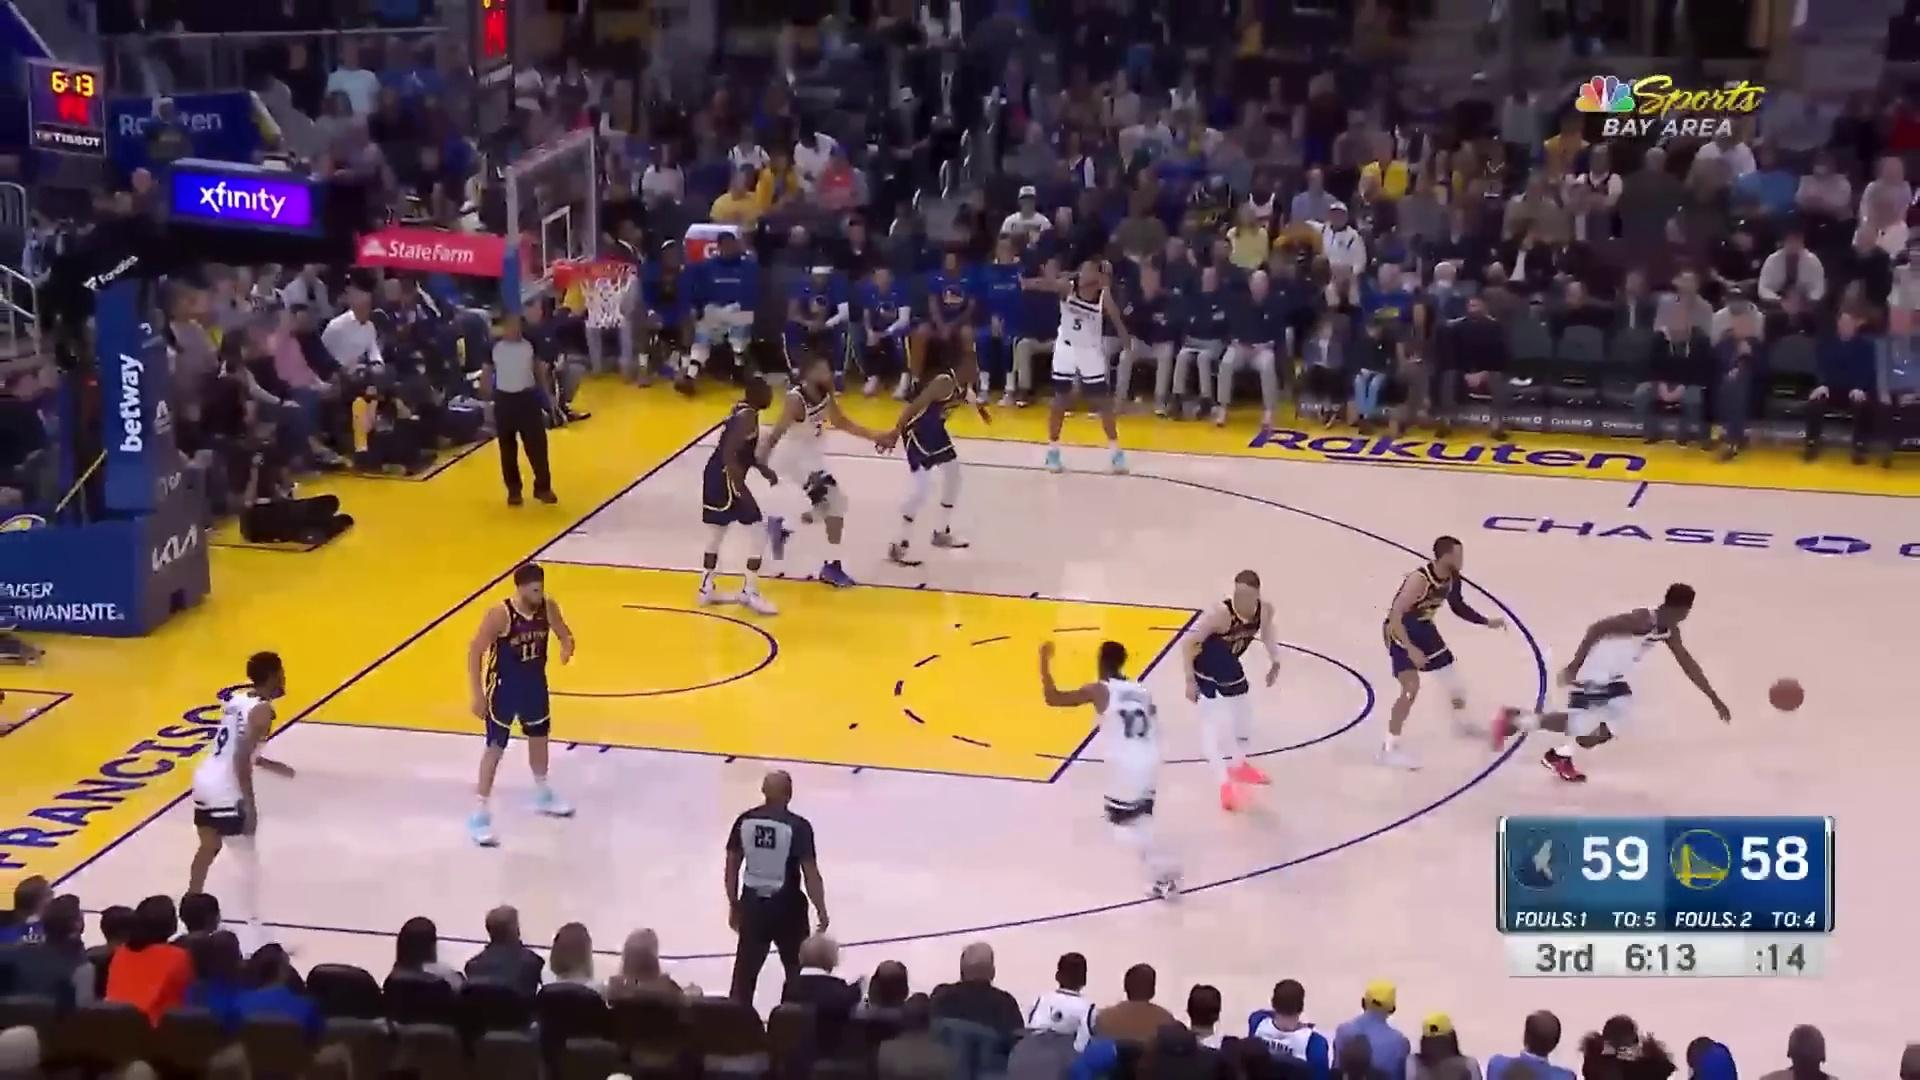Ball: (1768, 671, 1811, 718)
Player: (1488, 584, 1739, 783), (1018, 629, 1196, 908), (184, 643, 309, 971), (453, 566, 584, 864), (1366, 531, 1503, 774), (756, 349, 893, 591), (1013, 254, 1156, 479), (1184, 571, 1298, 821), (884, 351, 991, 564), (703, 371, 776, 621)
Rim: (496, 124, 636, 334)
